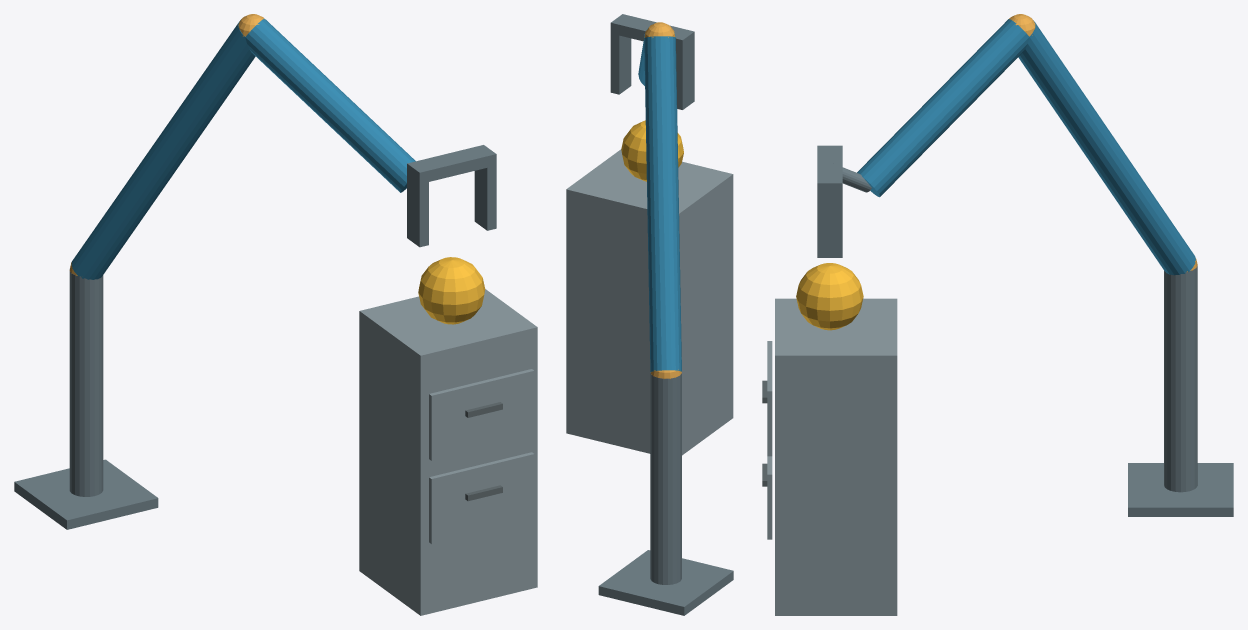
3 views of the same model, side by side, from view 1: azimuth 30°, elevation 25°; view 2: azimuth 150°, elevation 25°; view 3: azimuth 270°, elevation 25° (orthographic). The views are drawn at different scales.
Visible parts, largest first — view 1: cabinet_1 body, moving link 1, fixed post, moving link 2, cabinet_1 drawer front.001, cabinet_1 drawer front, pedestal, ball ball_1, gripper bridge, gripper finger -1, gripper finger 1; view 2: cabinet_1 body, moving link 1, fixed post, pedestal, ball ball_1, gripper finger 1, gripper bridge, gripper finger -1, joint 2; view 3: cabinet_1 body, moving link 1, moving link 2, fixed post, pedestal, ball ball_1, gripper finger 1, gripper bridge, cabinet_1 drawer front.001.
Boxes of the visible parts, x1=… form: cabinet_1 body: x1=359, y1=289, x2=537, y2=615; moving link 1: x1=71, y1=20, x2=255, y2=279; fixed post: x1=69, y1=269, x2=103, y2=496; moving link 2: x1=245, y1=18, x2=415, y2=192; cabinet_1 drawer front.001: x1=429, y1=369, x2=534, y2=460; cabinet_1 drawer front: x1=429, y1=452, x2=534, y2=543; pedestal: x1=14, y1=459, x2=158, y2=529; ball ball_1: x1=418, y1=257, x2=485, y2=324; gripper bridge: x1=407, y1=145, x2=496, y2=183; gripper finger -1: x1=407, y1=175, x2=428, y2=247; gripper finger 1: x1=474, y1=165, x2=496, y2=230; cabinet_1 body: x1=566, y1=149, x2=733, y2=455; moving link 1: x1=644, y1=36, x2=681, y2=372; fixed post: x1=650, y1=373, x2=681, y2=584; pedestal: x1=598, y1=550, x2=733, y2=615; ball ball_1: x1=621, y1=120, x2=683, y2=181; gripper finger 1: x1=610, y1=33, x2=631, y2=94; gripper bridge: x1=610, y1=14, x2=694, y2=50; gripper finger -1: x1=676, y1=42, x2=694, y2=109; joint 2: x1=644, y1=22, x2=675, y2=39; cabinet_1 body: x1=775, y1=298, x2=897, y2=615; moving link 1: x1=1018, y1=20, x2=1195, y2=275; moving link 2: x1=857, y1=19, x2=1029, y2=197; fixed post: x1=1164, y1=266, x2=1197, y2=492; pedestal: x1=1128, y1=463, x2=1233, y2=516; ball ball_1: x1=796, y1=263, x2=863, y2=330; gripper finger 1: x1=817, y1=194, x2=842, y2=257; gripper bridge: x1=817, y1=145, x2=842, y2=194; cabinet_1 drawer front.001: x1=767, y1=341, x2=772, y2=456.
Bounding box in the file's own units: 0.8043 × 1.36 × 1.12.
